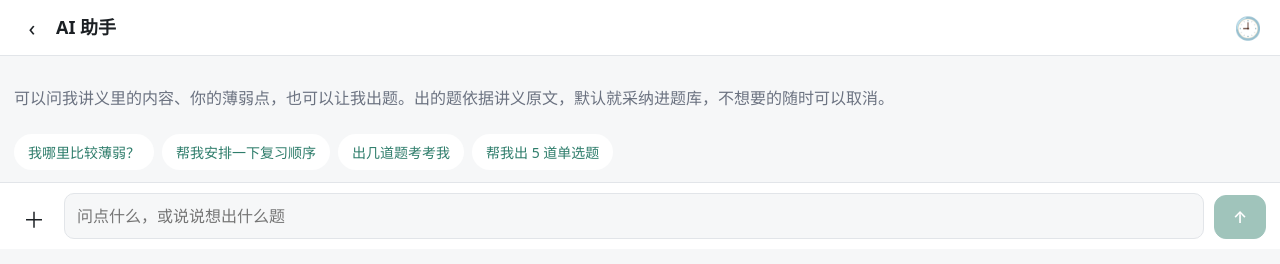
study assistant › AgentView › a quick prompt asks right away; the answer and its lookups show
Step 1. Click the button with class "chip" showing "我哪里比较薄弱？" → [84, 152], box [14, 134, 154, 170]
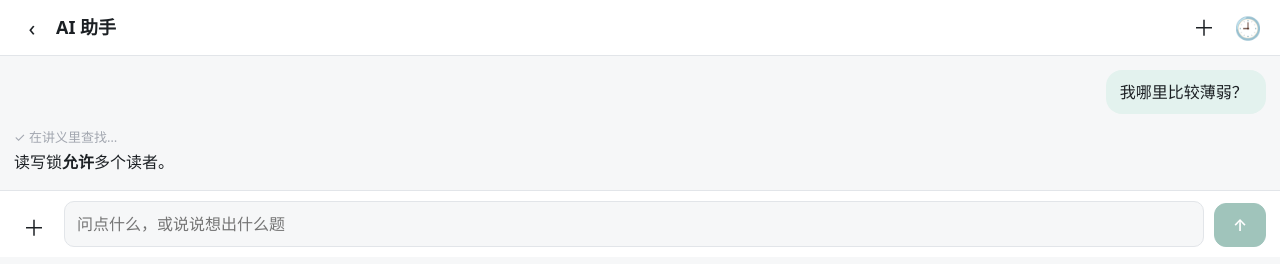
expect the text "我哪里比较薄弱？" is shown: met, box [1106, 70, 1266, 114]
expect the text "在讲义里查找…" is shown: met, box [26, 128, 117, 146]
expect the text "允许" is shown: met, box [62, 150, 94, 172]
